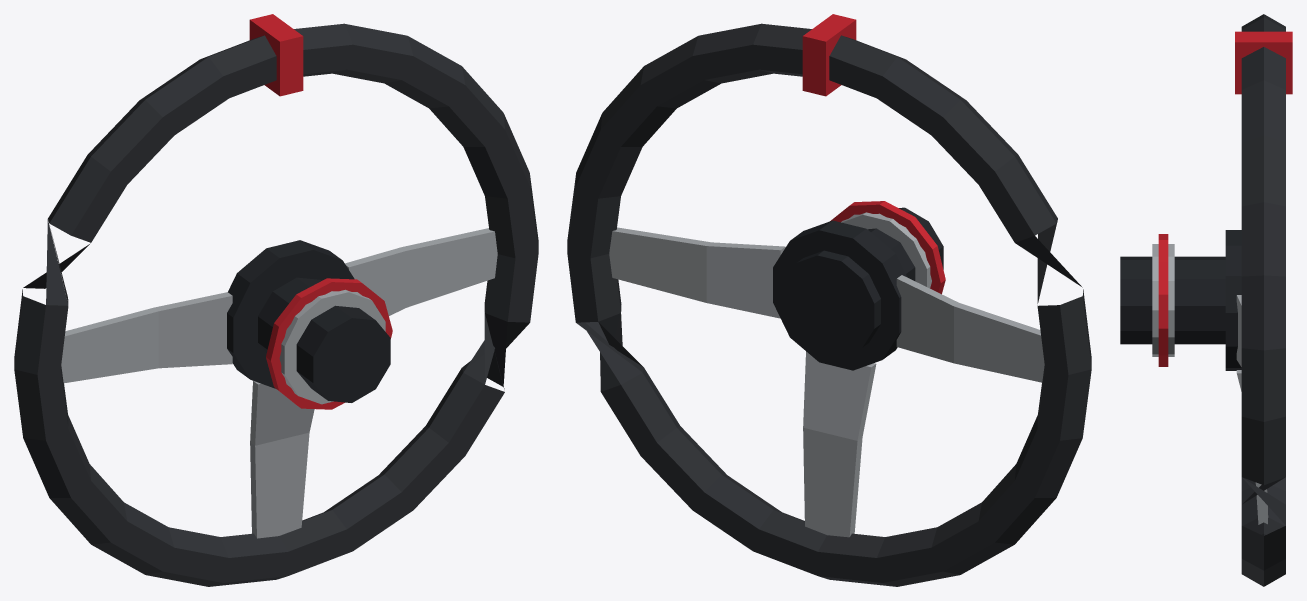
File: apex_v8.glb
3 renders of one model, left to right at view 1: azimuth 30°, elevation 25°; view 2: azimuth 150°, elevation 25°; view 3: azimuth 270°, elevation 25°, orthographic. The views are drawn at different scales.
Parts seen in each view (by area): view 1: model; view 2: model; view 3: model.
Boxes of the visible parts, left/top/right/bottom form: model: left=14, top=14, right=538, bottom=586; model: left=567, top=14, right=1091, bottom=586; model: left=1120, top=14, right=1292, bottom=586.
Bounding box in the file's own units: 0.361 × 0.363 × 0.108.
3 materials, 1 textured.
